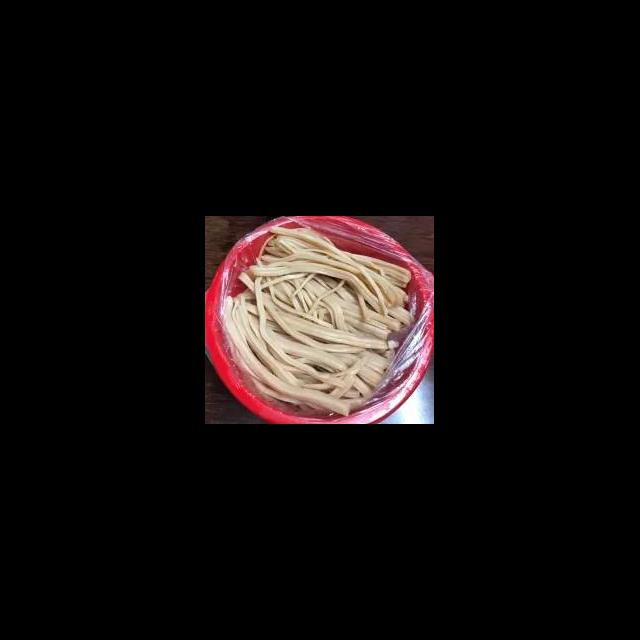mi: (218, 225, 414, 418)
